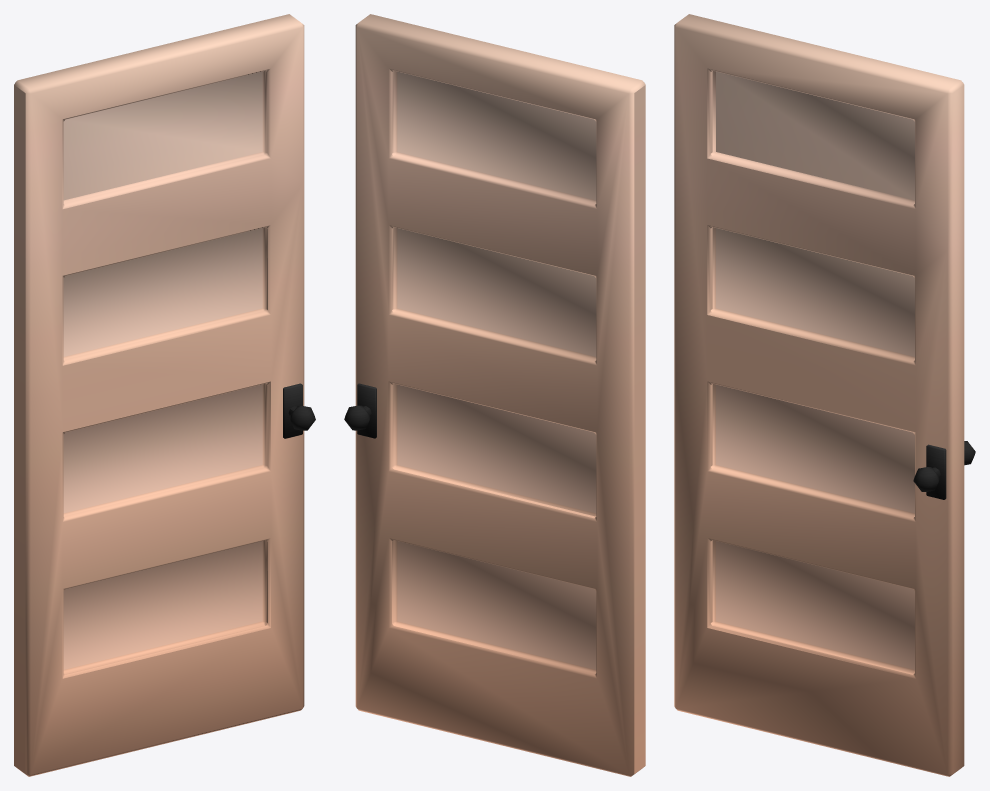
Rendered from SM_Door_5.fbx.
3 renders of one model, left to right at view 1: azimuth 30°, elevation 25°; view 2: azimuth 150°, elevation 25°; view 3: azimuth 330°, elevation 25°, orthographic.
Parts seen in each view (by area): view 1: SM_Door_5; view 2: SM_Door_5; view 3: SM_Door_5.
Boxes of the visible parts, box(x1,y1,x2,y2) form: SM_Door_5: box(14, 14, 315, 776); SM_Door_5: box(344, 14, 645, 776); SM_Door_5: box(674, 14, 975, 776).
Size of the model in its own units: 100 by 236 by 30.88.
Materials: 1 (1 with a texture image).
